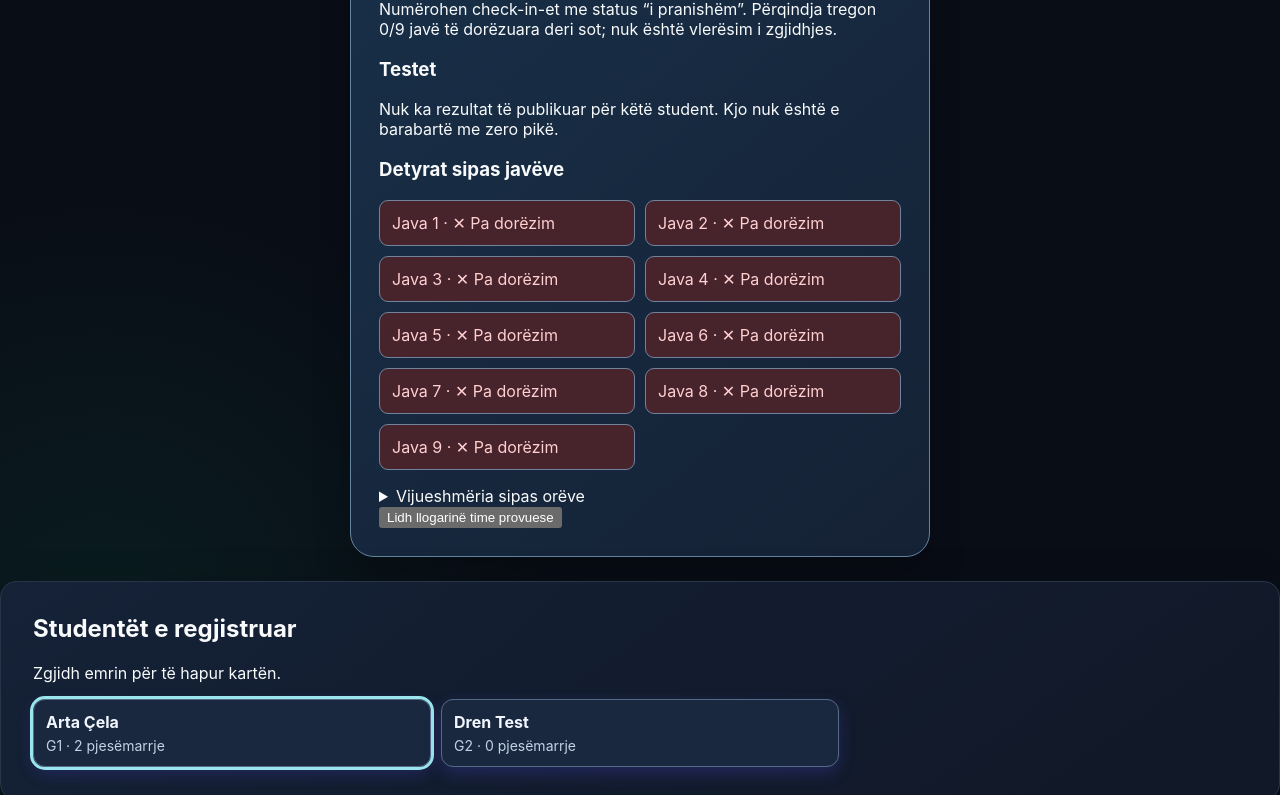
Test: keeps account-linking tools inside the authenticated student own card, after their identity
(page scrolled)
Click the button "Dren Test G2 · 0 pjesëmarrje". click: (491, 722)
box: [441,699,839,767]
(page scrolled)
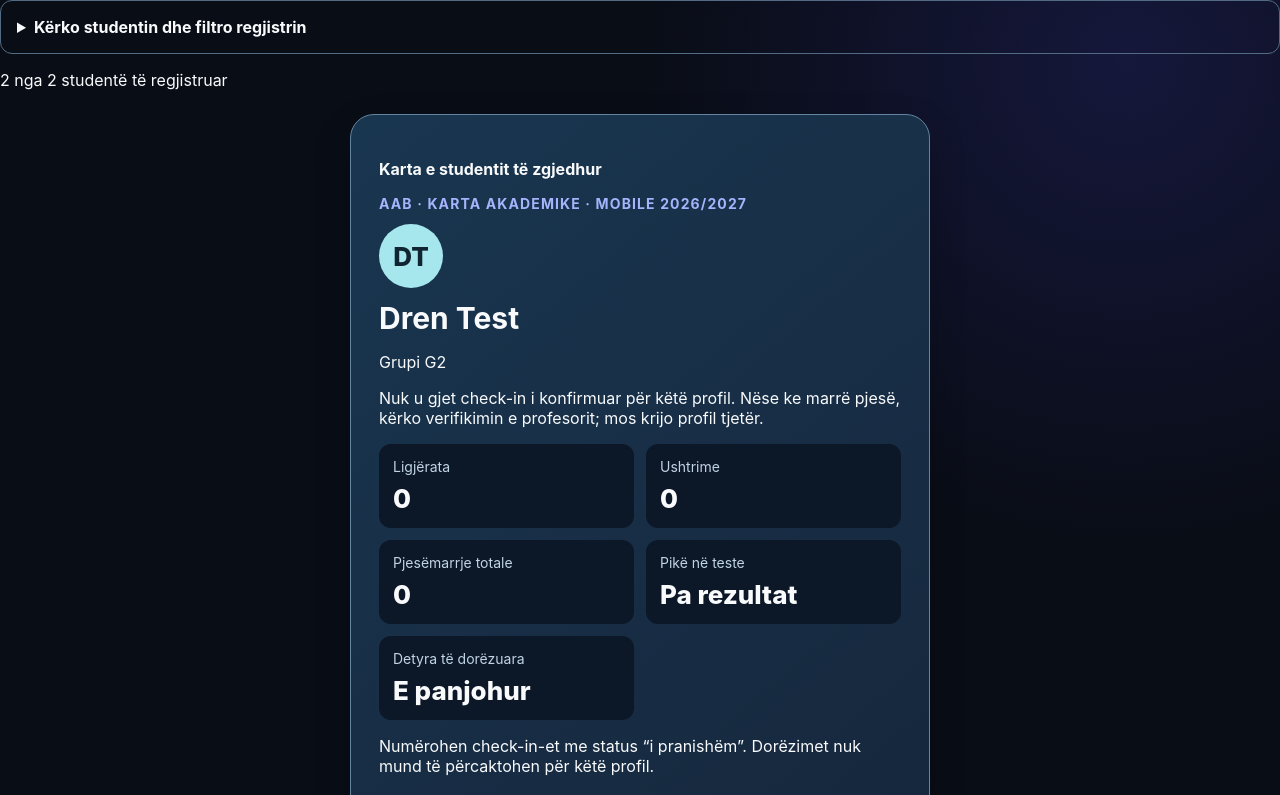
Expected: the heading "Dren Test" is shown, [379,300,519,336]
Expected: the button "Lidh llogarinë time provuese" is gone
